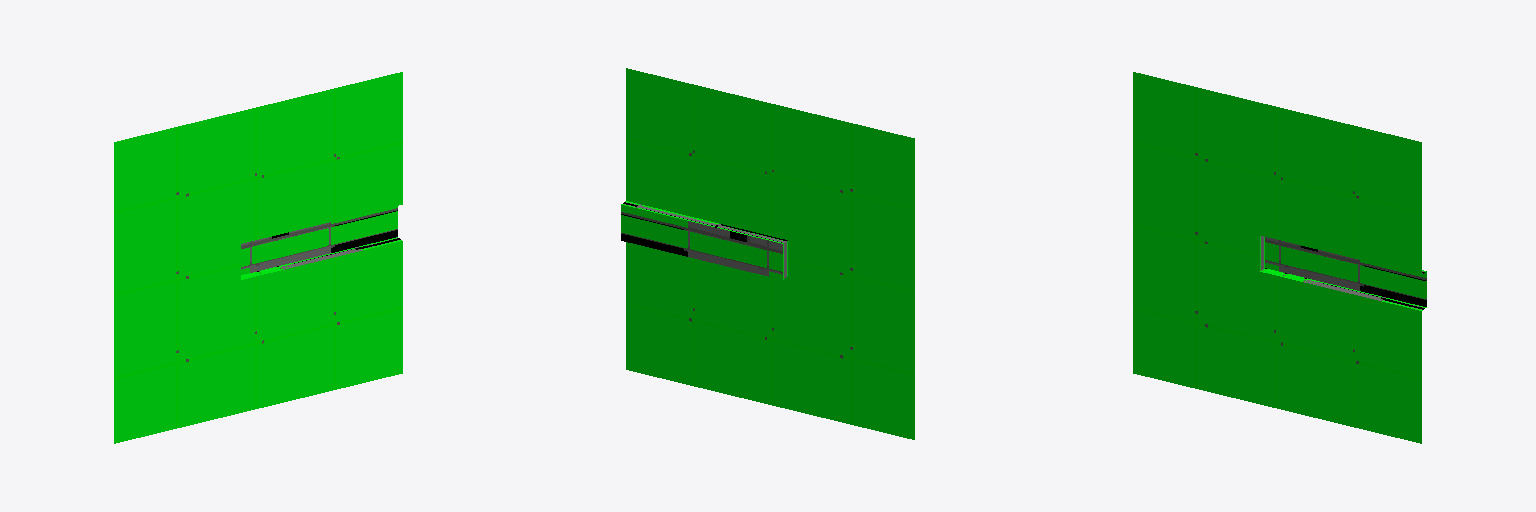
3 renders of one model, left to right at view 1: azimuth 30°, elevation 25°; view 2: azimuth 150°, elevation 25°; view 3: azimuth 330°, elevation 25°, orthographic.
Parts seen in each view (by area): view 1: Plane_Plane.009; view 2: Plane_Plane.009; view 3: Plane_Plane.009.
Part boxes in pixels (bbox=[...]): Plane_Plane.009: bbox=[114, 72, 402, 443]; Plane_Plane.009: bbox=[621, 68, 914, 439]; Plane_Plane.009: bbox=[1133, 72, 1426, 443].
Size of the model in its own units: 10 by 10 by 0.3.
Materials: 1 (1 with a texture image).